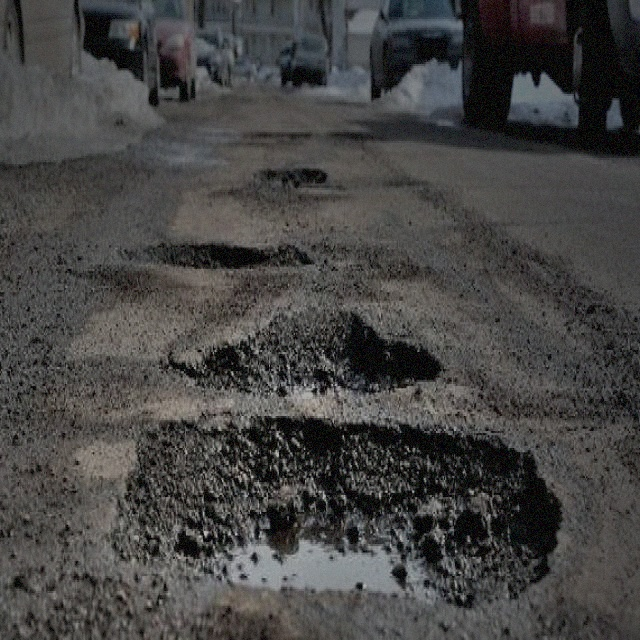pothole: (110, 410, 567, 608), (162, 301, 444, 399), (119, 237, 313, 269), (259, 160, 327, 188)
